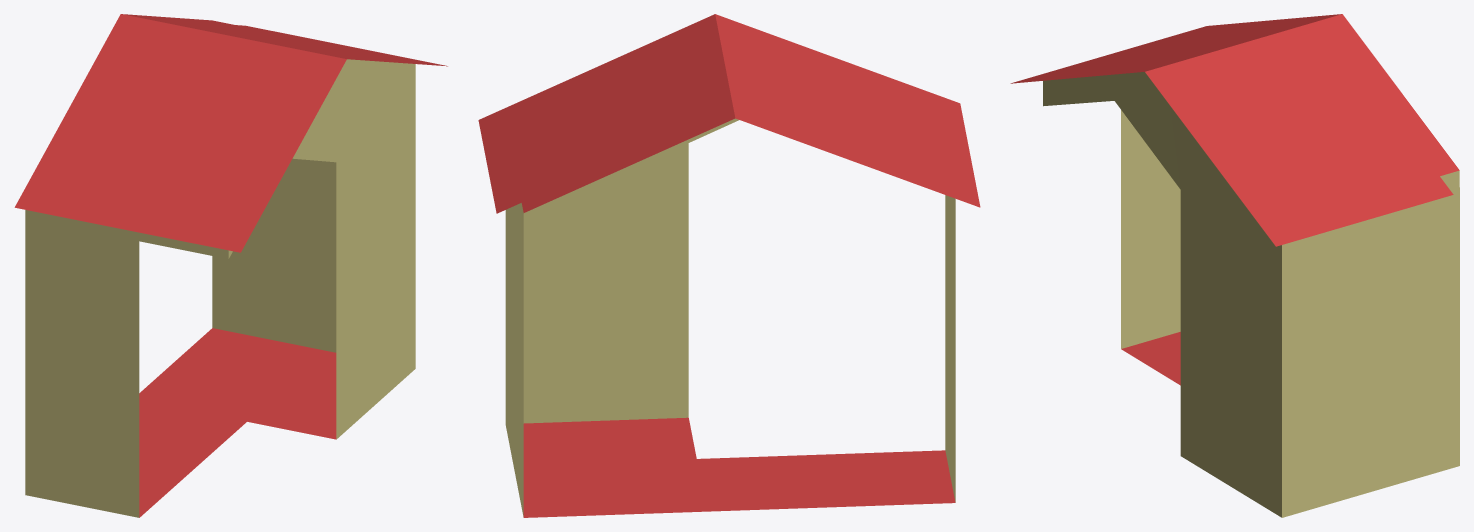
3 renders of one model, left to right at view 1: azimuth 30°, elevation 25°; view 2: azimuth 150°, elevation 25°; view 3: azimuth 270°, elevation 25°, orthographic. The views are drawn at different scales.
Bounding box in the file's own units: 10.72 × 9.25 × 8.61.
